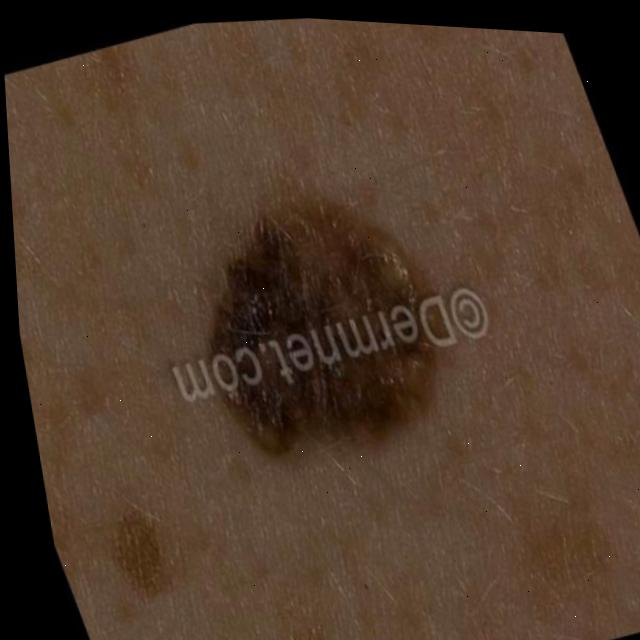Eczema: (21, 1, 640, 640)
